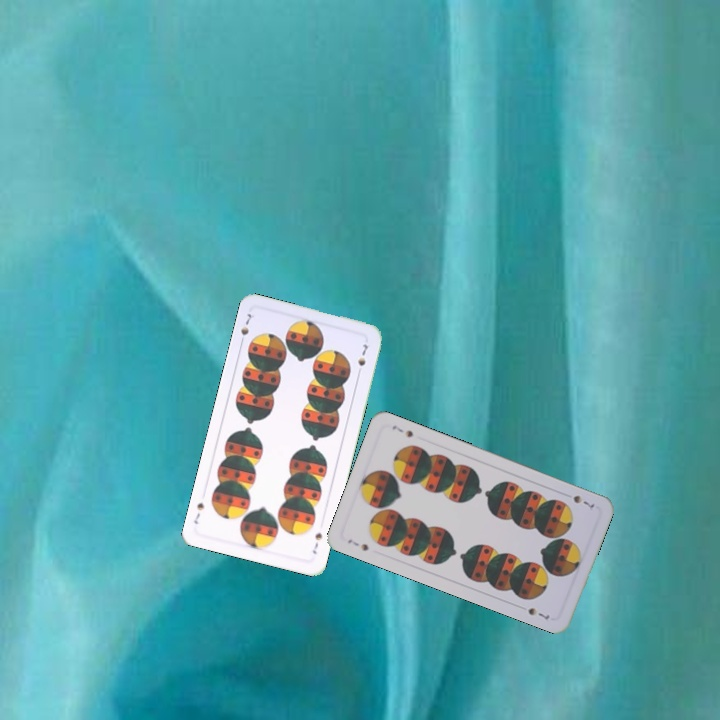S7: (569, 491, 597, 511), (236, 309, 254, 338), (344, 535, 371, 554), (309, 529, 325, 557)
